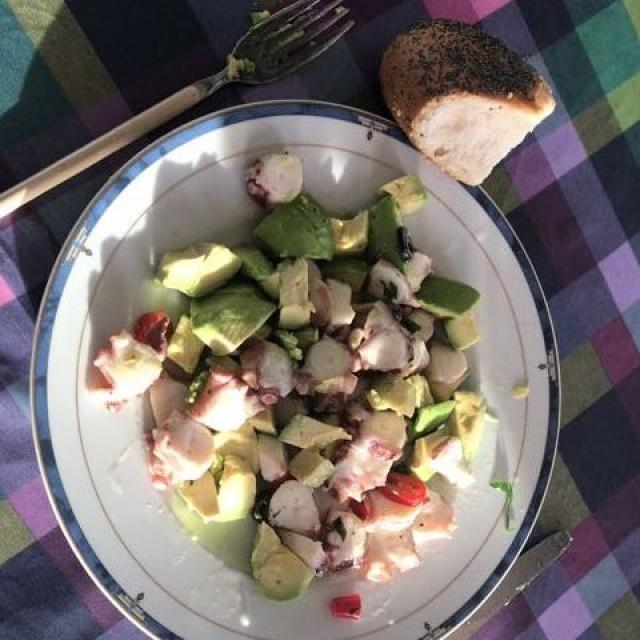bread: (359, 19, 569, 203)
